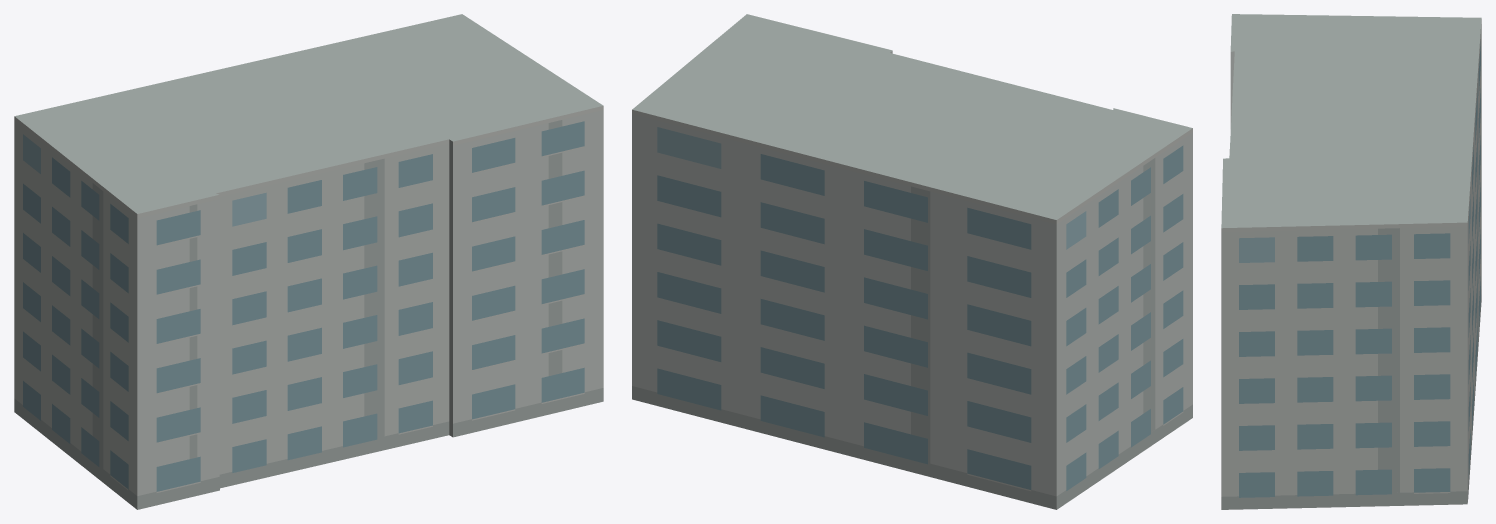
File: survey-upis-33040163.glb
3 views of the same model, side by side, from view 1: azimuth 30°, elevation 25°; view 2: azimuth 150°, elevation 25°; view 3: azimuth 270°, elevation 25° (orthographic). The views are drawn at different scales.
Parts seen in each view (by area): view 1: survey-upis-33040163.tmp; view 2: survey-upis-33040163.tmp; view 3: survey-upis-33040163.tmp.
Part boxes in pixels (left/top/right/bottom): survey-upis-33040163.tmp: left=14, top=14, right=603, bottom=509; survey-upis-33040163.tmp: left=632, top=14, right=1192, bottom=509; survey-upis-33040163.tmp: left=1221, top=14, right=1481, bottom=509.
Size of the model in its own units: 27.72 by 17 by 14.24.
